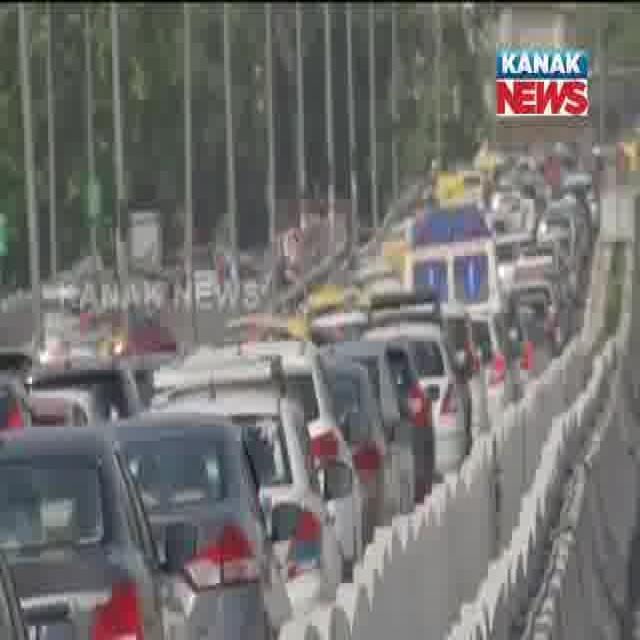ambulance: (402, 196, 499, 293)
